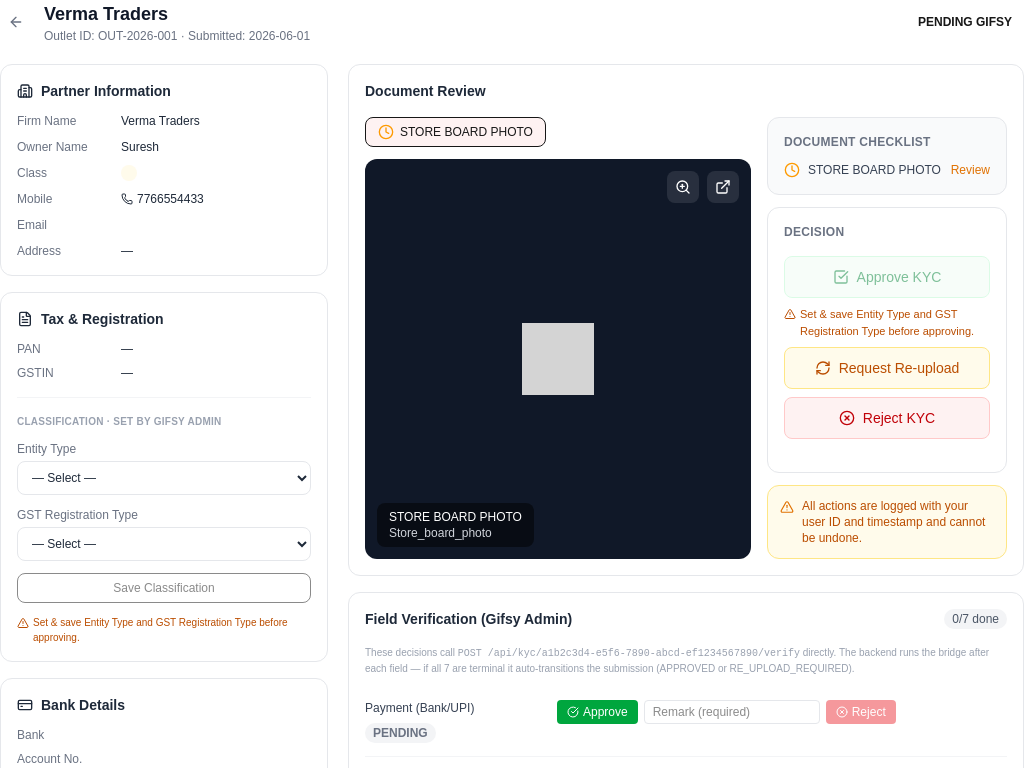
Test: CL — Gifsy classification + group inheritance › CL6: a lock-400 save surfaces inline and Approve stays blocked
Select "Individual / Proprietor" in the dropdown with test id "entity-type-select" at x=164, y=478, box [17, 461, 311, 495]
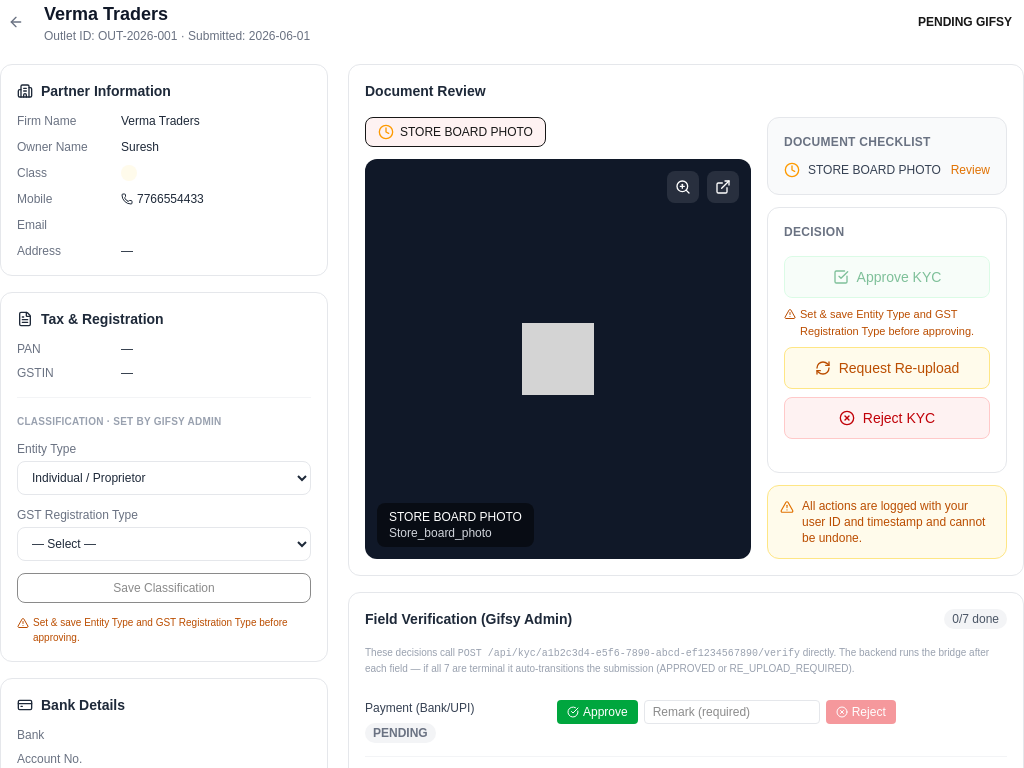
Select "Regular" in the dropdown with test id "gst-reg-type-select" at x=164, y=544, box [17, 527, 311, 561]
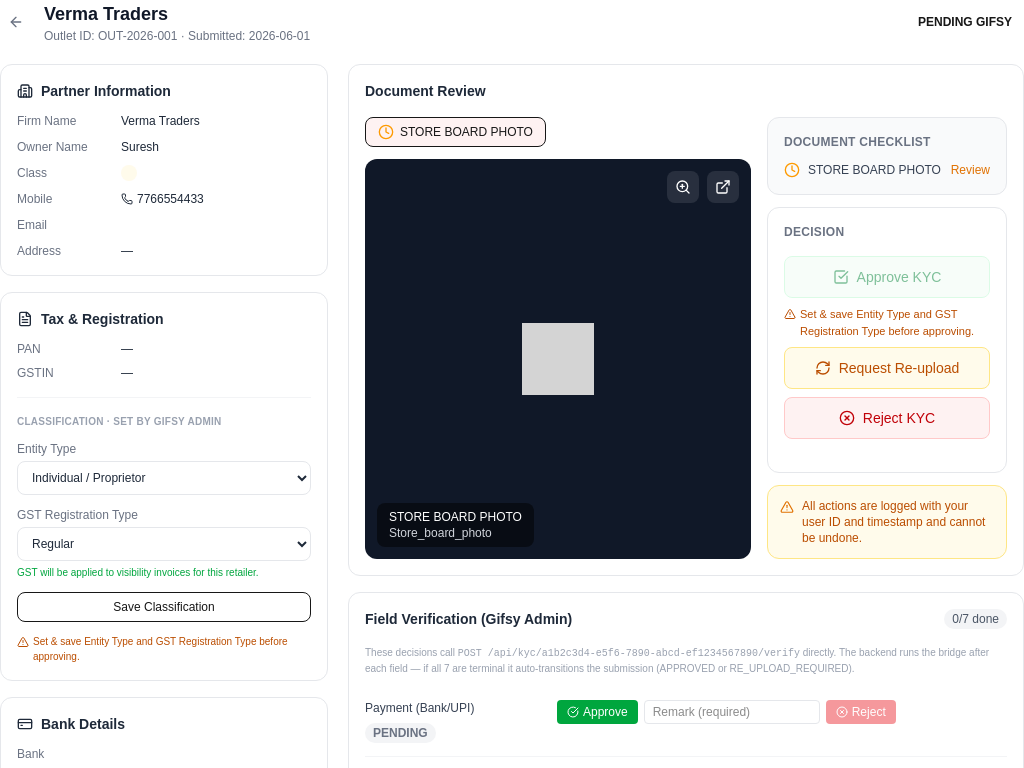
Click the button with test id "save-classification-btn" at x=164, y=607, box [17, 592, 311, 622]
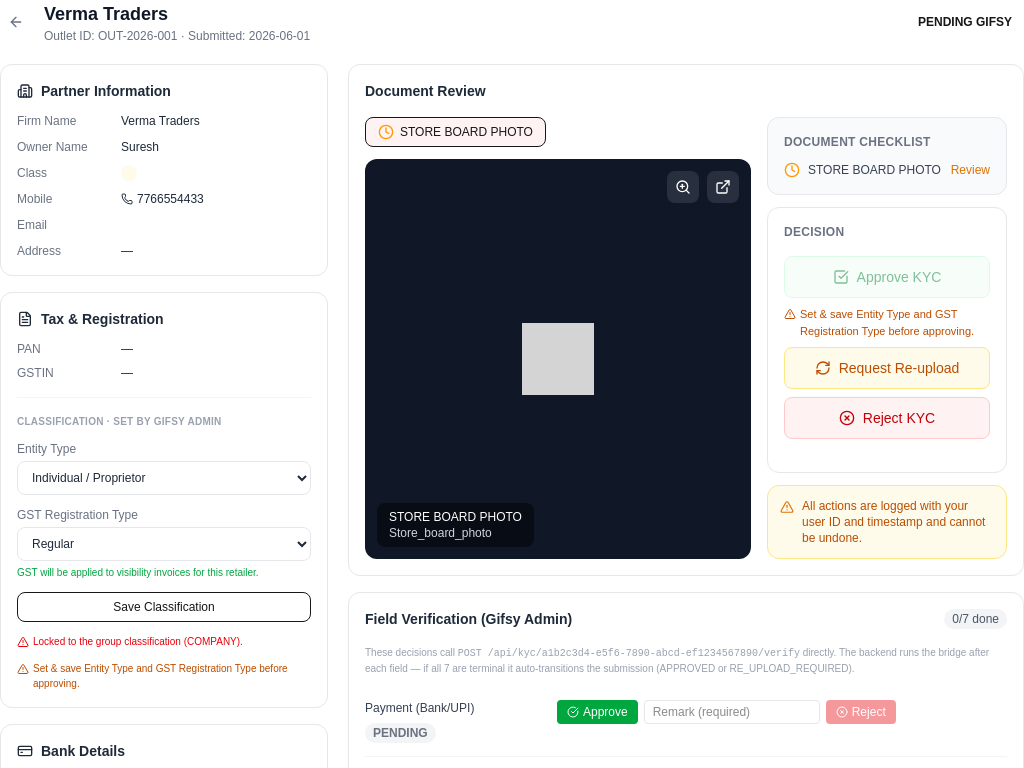
Expected: the button with test id "approve-kyc-btn" is disabled, [784, 256, 990, 298]
Now the element with test id "classification-error" shows "Locked to the group classification", box [33, 636, 243, 647]
